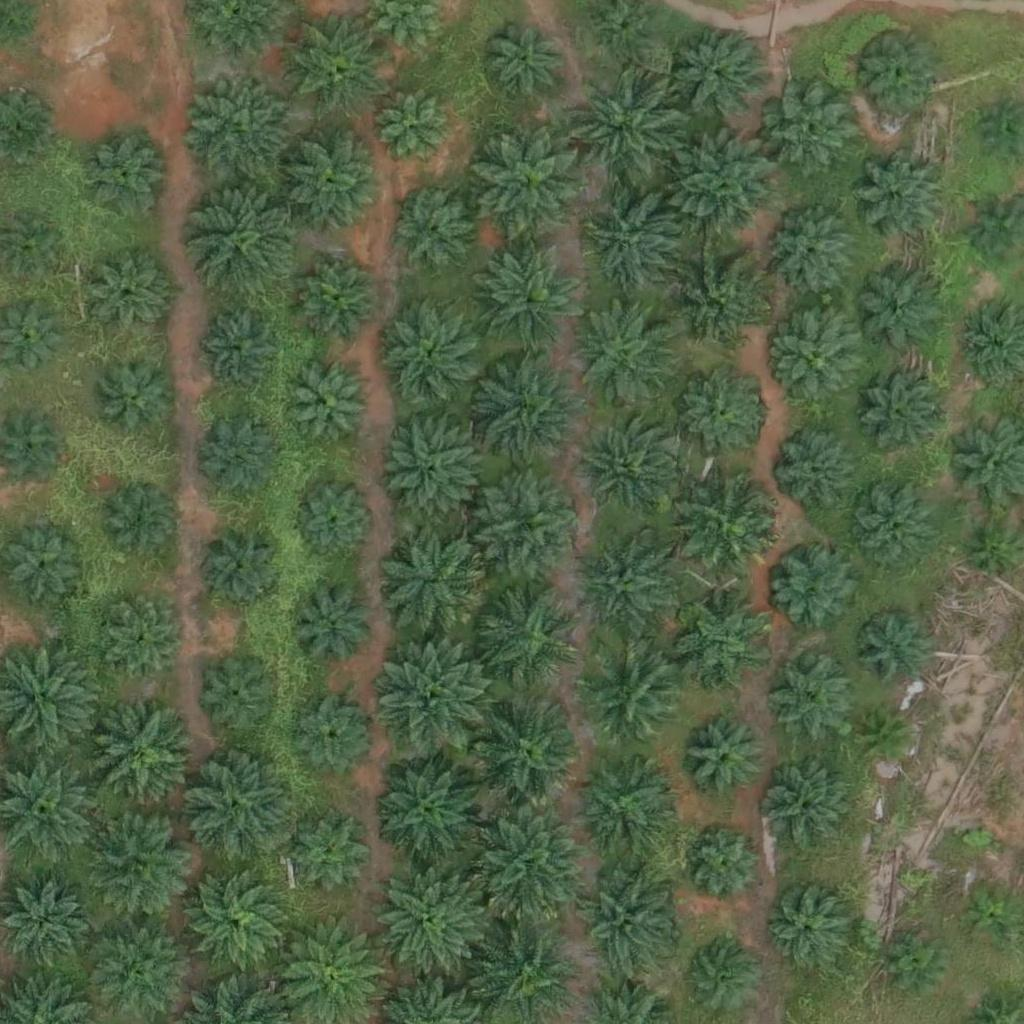Kelapa_Sawit: (572, 59, 697, 184), (187, 76, 300, 190), (193, 183, 306, 297), (474, 809, 587, 923), (374, 640, 487, 754), (474, 123, 587, 236), (479, 242, 592, 355), (473, 351, 586, 464), (373, 752, 486, 865), (371, 867, 484, 980), (83, 808, 196, 921), (473, 469, 585, 583), (568, 867, 680, 981), (476, 698, 588, 812), (376, 527, 488, 641), (573, 638, 685, 751), (181, 748, 293, 861), (183, 865, 295, 978), (82, 701, 194, 814), (286, 14, 386, 115), (587, 189, 687, 290), (577, 304, 677, 405), (577, 425, 677, 526), (675, 135, 775, 236), (667, 251, 767, 352), (681, 474, 781, 575), (754, 753, 854, 854), (676, 595, 776, 696), (286, 134, 386, 234), (383, 301, 483, 401), (386, 415, 486, 515), (580, 536, 680, 636), (577, 758, 677, 858), (476, 587, 576, 687), (3, 523, 91, 612), (773, 313, 861, 402), (676, 33, 764, 121), (677, 368, 765, 456), (773, 425, 861, 513), (772, 545, 860, 633), (770, 650, 858, 738), (99, 595, 187, 683), (483, 19, 570, 108), (288, 584, 375, 672), (294, 478, 381, 566), (203, 523, 290, 611), (767, 87, 854, 175), (769, 212, 856, 300), (857, 154, 944, 242), (855, 267, 942, 355), (855, 369, 942, 457), (849, 487, 936, 575), (766, 884, 853, 972), (680, 716, 767, 804), (292, 687, 379, 775), (287, 807, 374, 895), (96, 932, 183, 1020), (92, 257, 167, 333), (862, 33, 937, 109), (690, 825, 765, 901), (87, 137, 162, 213), (207, 310, 282, 386), (205, 424, 280, 500), (299, 263, 374, 339), (294, 367, 369, 443), (401, 196, 476, 272), (879, 921, 954, 997), (685, 935, 760, 1011), (376, 89, 451, 164), (98, 485, 173, 560), (100, 357, 175, 432), (858, 612, 933, 687), (200, 659, 275, 734), (969, 529, 1019, 580), (971, 890, 1021, 941), (863, 710, 913, 761)
